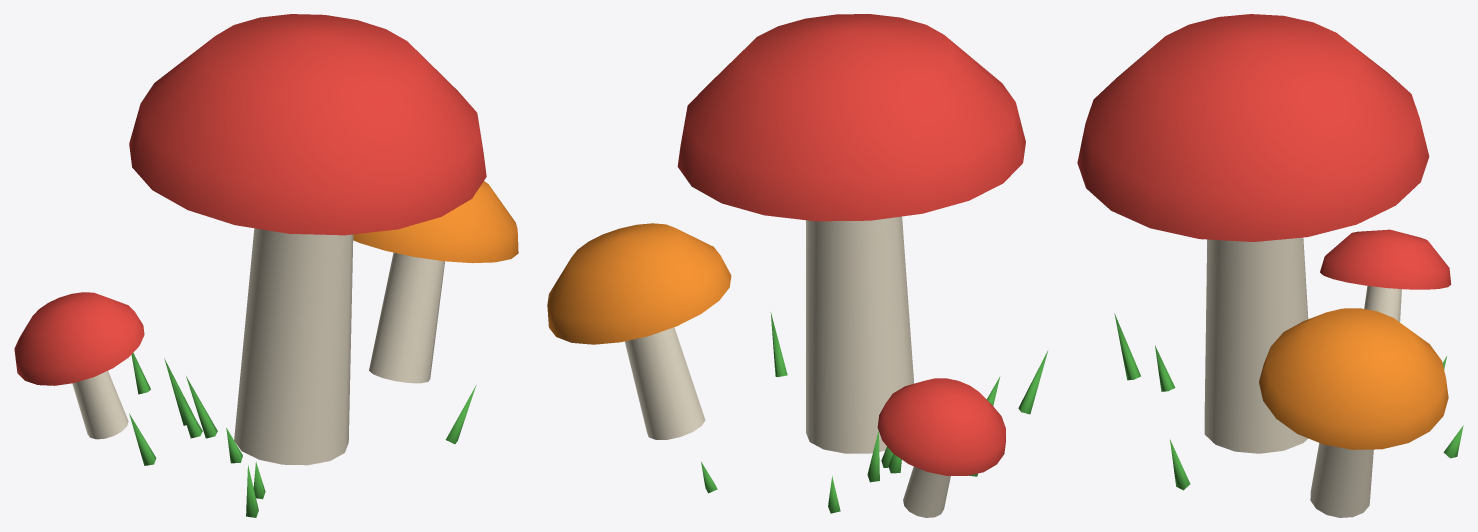
File: Meadow_Mushrooms.glb
3 views of the same model, side by side, from view 1: azimuth 30°, elevation 25°; view 2: azimuth 150°, elevation 25°; view 3: azimuth 270°, elevation 25° (orthographic). The views are drawn at different scales.
Visible parts, largest first — view 1: CapsRed, Stems, CapsOrange, Grass; view 2: CapsRed, Stems, CapsOrange, Grass; view 3: CapsRed, Stems, CapsOrange, Grass.
Boxes of the visible parts, x1=… form: CapsRed: x1=14, y1=14, x2=486, y2=385; Stems: x1=72, y1=228, x2=444, y2=465; CapsOrange: x1=353, y1=181, x2=518, y2=263; Grass: x1=129, y1=352, x2=476, y2=517; CapsRed: x1=677, y1=14, x2=1025, y2=475; Stems: x1=624, y1=216, x2=950, y2=517; CapsOrange: x1=547, y1=223, x2=731, y2=344; Grass: x1=701, y1=312, x2=1048, y2=513; CapsRed: x1=1077, y1=14, x2=1451, y2=289; Stems: x1=1204, y1=237, x2=1401, y2=517; CapsOrange: x1=1259, y1=308, x2=1448, y2=449; Grass: x1=1114, y1=313, x2=1463, y2=490.
Bounding box in the file's own units: 7.18 × 6.03 × 5.26.
